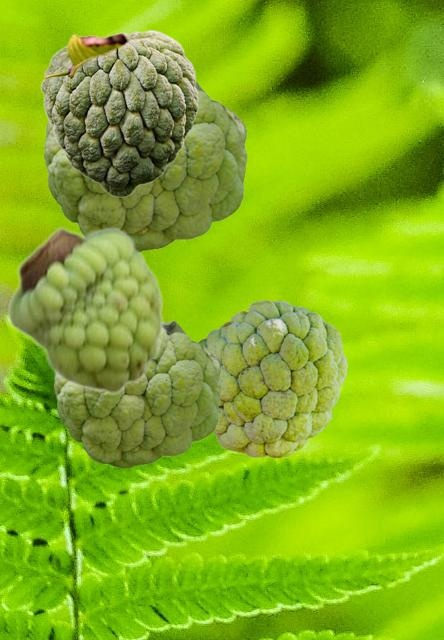atis: (44, 81, 246, 252), (7, 225, 164, 395), (40, 29, 197, 196), (54, 320, 220, 467), (197, 300, 346, 457)
